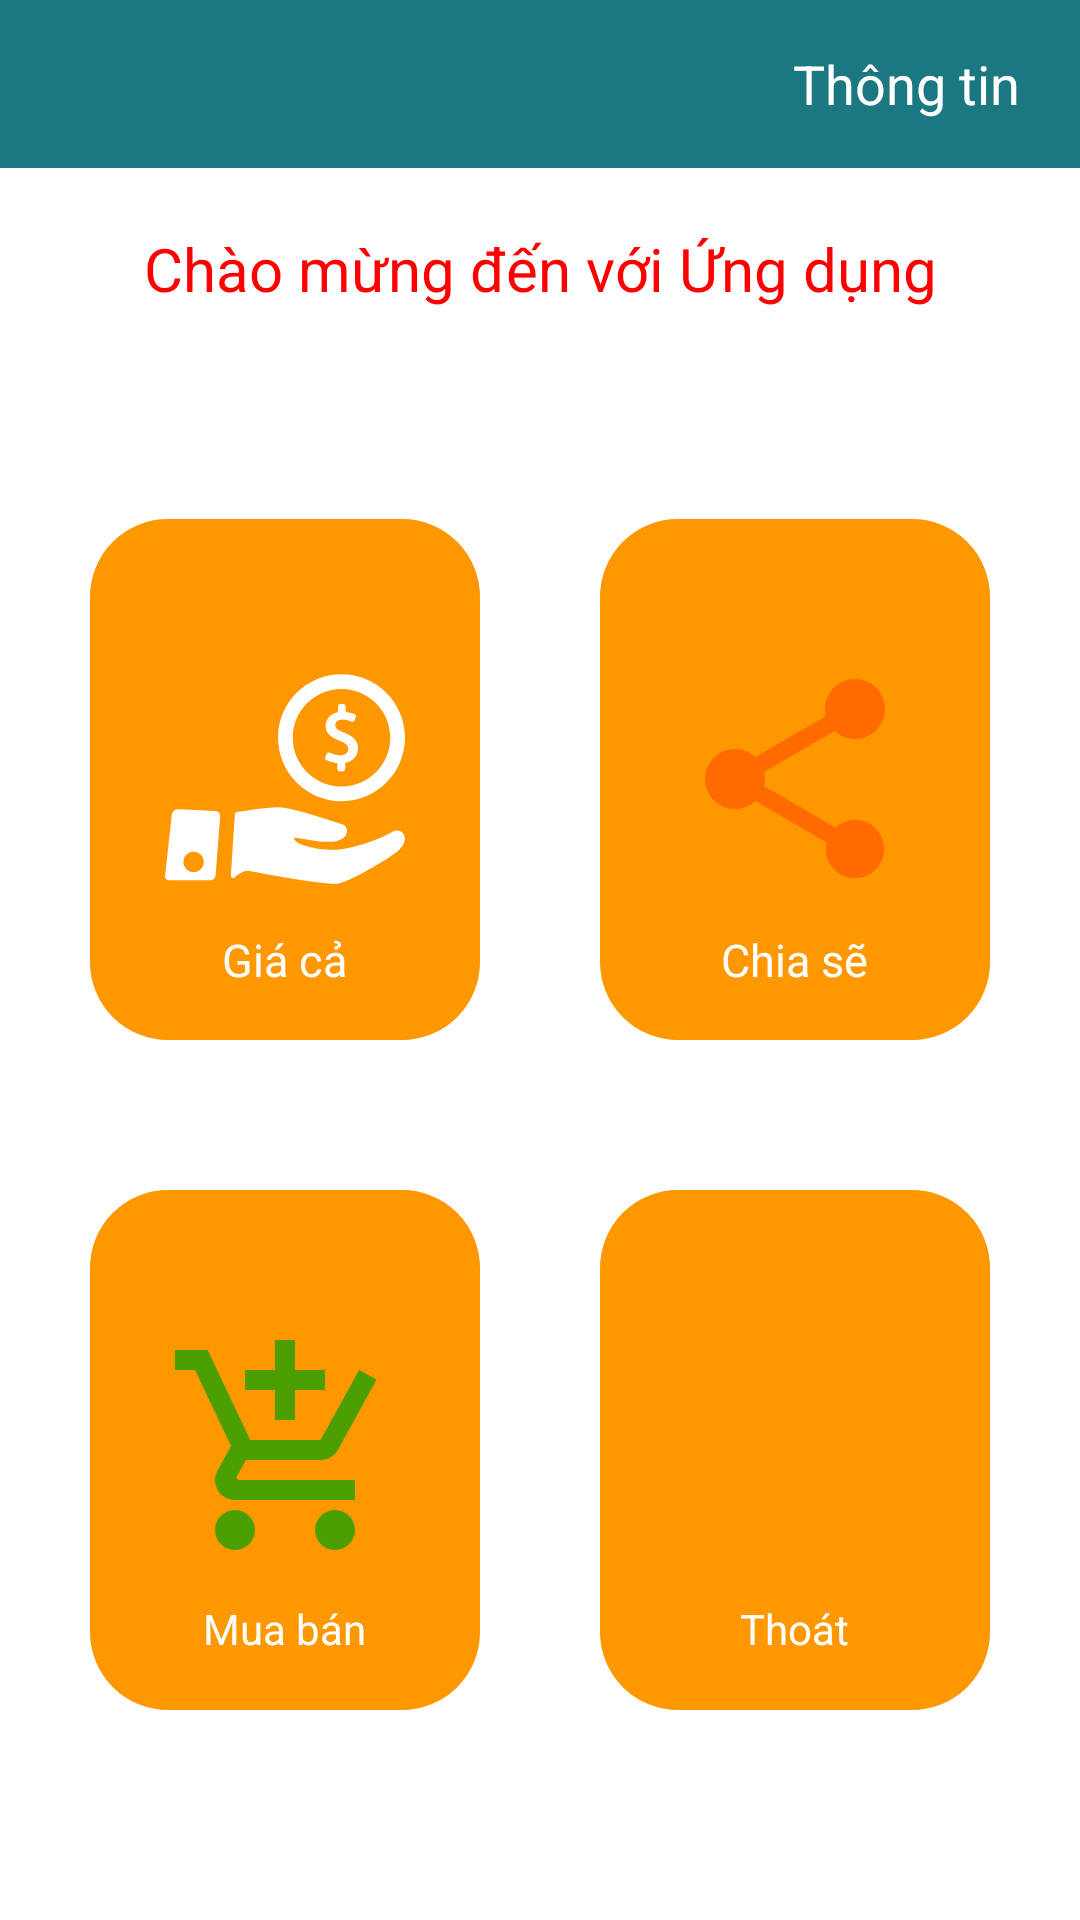

Point at icon controls on the screen. Image size 1080 x 1920, points as (x,y).
add shopping cart: (276,1445)
give money: (285,779)
